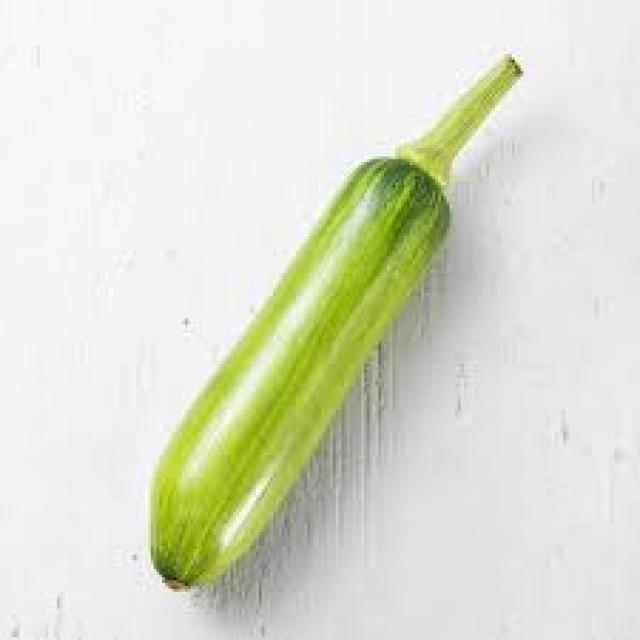zucchini: (142, 51, 524, 595)
